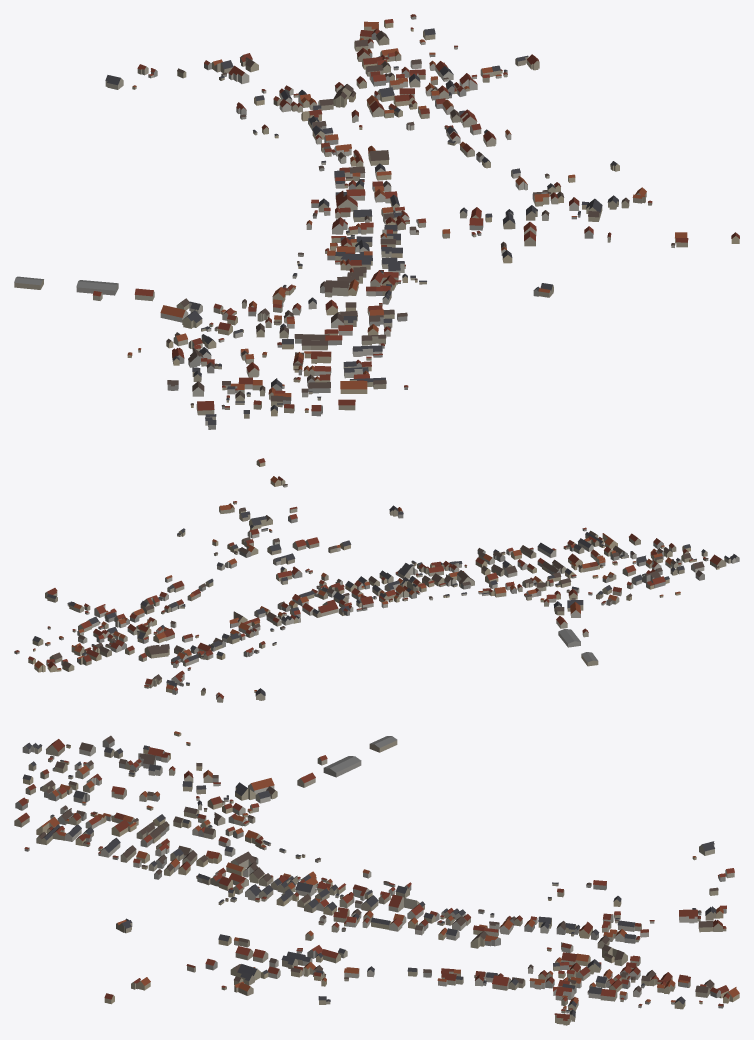
3 views of the same model, one above another, from view 1: azimuth 30°, elevation 25°; view 2: azimuth 150°, elevation 25°; view 3: azimuth 270°, elevation 25° (orthographic). The views are drawn at different scales.
Parts seen in each view (by area): view 1: buildings; view 2: buildings; view 3: buildings.
Boxes of the visible parts, <box> form: buildings: <box>14,14,739,429</box>; buildings: <box>14,458,739,702</box>; buildings: <box>14,731,739,1025</box>.
Bounding box in the file's own units: 767 × 48.6 × 812.
